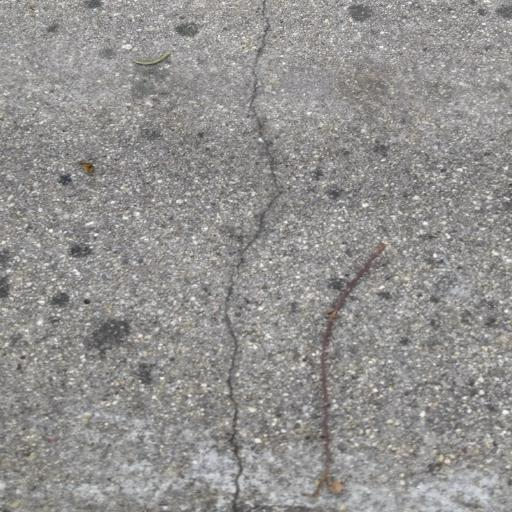minor_crack: (223, 5, 291, 512)
